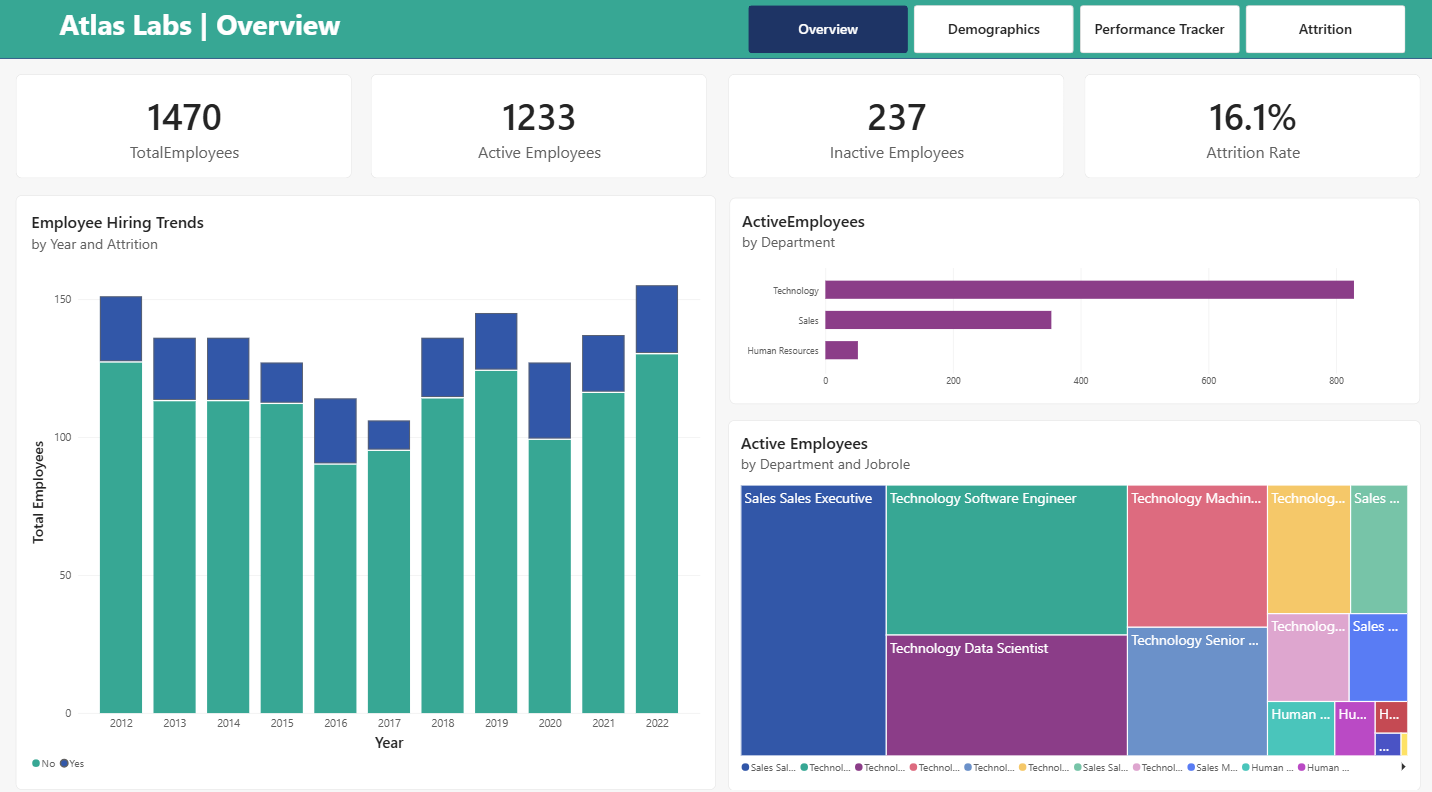

The page's visual inventory and layout, read from the dashboard file:
{"tool":"powerbi","page":{"name":"Overview","canvas":[1920,1080],"ordinal":0},"visuals":[{"type":"cardVisual","fields":{"Data":["_Measures.TotalEmployees"]},"box":[25.3,99.5,448,139],"z":0},{"type":"cardVisual","fields":{"Data":["_Measures.ActiveEmployees"]},"box":[497.7,99.5,448.8,139.3],"z":1000},{"type":"cardVisual","fields":{"Data":["_Measures.InactiveEmployees"]},"box":[975.4,99.5,448.8,139.3],"z":2000},{"type":"cardVisual","fields":{"Data":["_Measures.% Attrition Rate"]},"box":[1449.5,99.5,448.8,139.3],"z":3000},{"type":"columnChart","title":"Employee Hiring Trends","fields":{"Category":["DimDate.Date.Variation.Date Hierarchy.Year","DimDate.Date.Variation.Date Hierarchy.Quarter","DimDate.Date.Variation.Date Hierarchy.Month","DimDate.Date.Variation.Date Hierarchy.Day"],"Y":["_Measures.TotalEmployeesDate"],"Series":["DimEmployee.Attrition"]},"box":[25.3,262.4,933.8,792.6],"z":4000},{"type":"clusteredBarChart","fields":{"Category":["DimEmployee.Department"],"Y":["_Measures.ActiveEmployees"]},"box":[977.2,264.2,921.1,275.1],"z":5000},{"type":"treemap","title":"Active Employees","fields":{"Values":["_Measures.ActiveEmployees"],"Group":["DimEmployee.Department","DimEmployee.JobRole"]},"box":[975.4,561,922.9,494],"z":6000},{"type":"shape","box":[0,0,1920.1,79.6],"z":7000},{"type":"textbox","box":[0,9,541.1,70.6],"z":8000},{"type":"pageNavigator","box":[1002,8,876,64],"z":9000}]}

Visuals, with their boxes in screenshot pixels (x1, y1, x2, y2), scaled from the page's 1920x1080 canvas onto the 1432x792 screenshot:
cardVisual - _Measures.TotalEmployees: x1=19 y1=73 x2=353 y2=175
cardVisual - _Measures.ActiveEmployees: x1=371 y1=73 x2=706 y2=175
cardVisual - _Measures.InactiveEmployees: x1=727 y1=73 x2=1062 y2=175
cardVisual - _Measures.% Attrition Rate: x1=1081 y1=73 x2=1416 y2=175
"Employee Hiring Trends" columnChart: x1=19 y1=192 x2=715 y2=774
clusteredBarChart - DimEmployee.Department x _Measures.ActiveEmployees: x1=729 y1=194 x2=1416 y2=395
"Active Employees" treemap: x1=727 y1=411 x2=1416 y2=774
shape: x1=0 y1=0 x2=1431 y2=58
textbox: x1=0 y1=7 x2=404 y2=58
pageNavigator: x1=747 y1=6 x2=1401 y2=53
